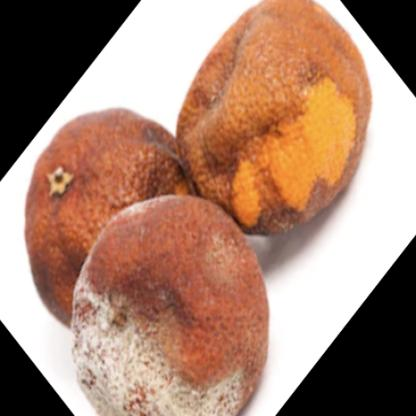rotten: (27, 1, 372, 416)
